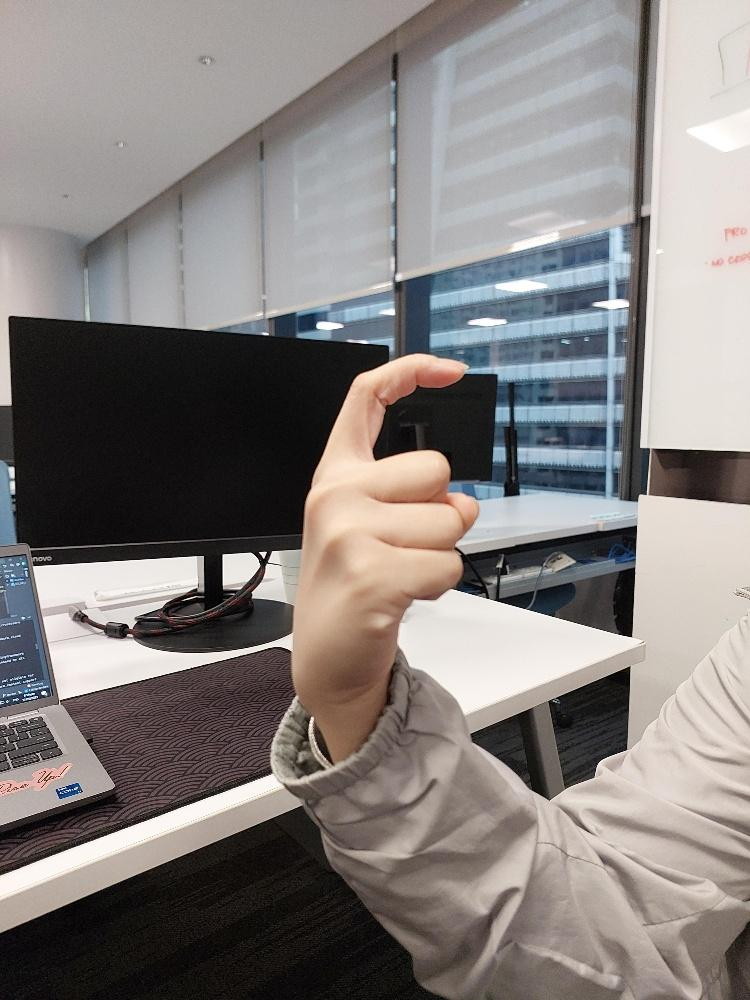x: (291, 353, 477, 692)
